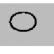no answer: (6, 10, 40, 33)
